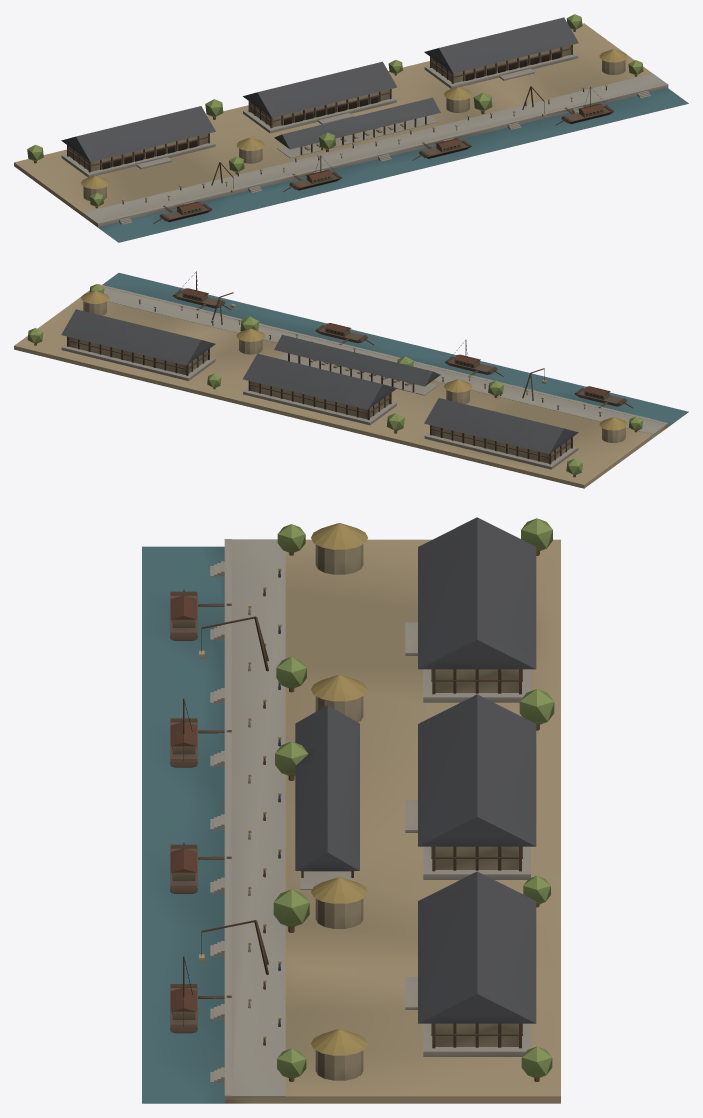
File: bian-wharves.glb
3 views of the same model, one above another, from view 1: azimuth 30°, elevation 25°; view 2: azimuth 150°, elevation 25°; view 3: azimuth 270°, elevation 25° (orthographic). The views are drawn at different scales.
Parts seen in each view (by area): view 1: p0_quay, p2_trees, p1_sheds; view 2: p0_quay, p2_trees, p1_sheds; view 3: p0_quay, p2_trees, p1_sheds.
Part boxes in pixels (box(x1,y1,x2,y2)): p0_quay: box(14, 23, 688, 242); p2_trees: box(27, 14, 643, 223); p1_sheds: box(61, 44, 625, 200); p0_quay: box(14, 273, 688, 488); p2_trees: box(27, 271, 643, 477); p1_sheds: box(61, 301, 625, 469); p0_quay: box(142, 539, 560, 1103); p2_trees: box(170, 517, 554, 1081); p1_sheds: box(295, 544, 530, 1080).
Size of the model in its own units: 220 by 12.9 by 70.
